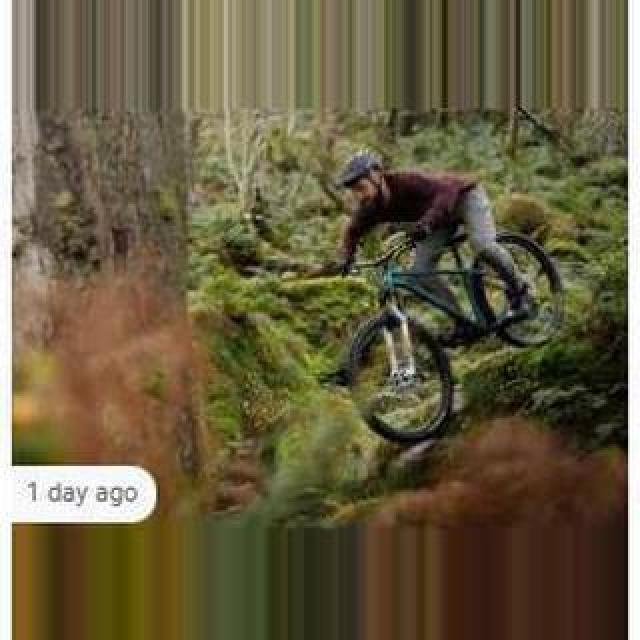MC-Bike: (338, 148, 504, 264)
Person: (340, 228, 574, 448)
